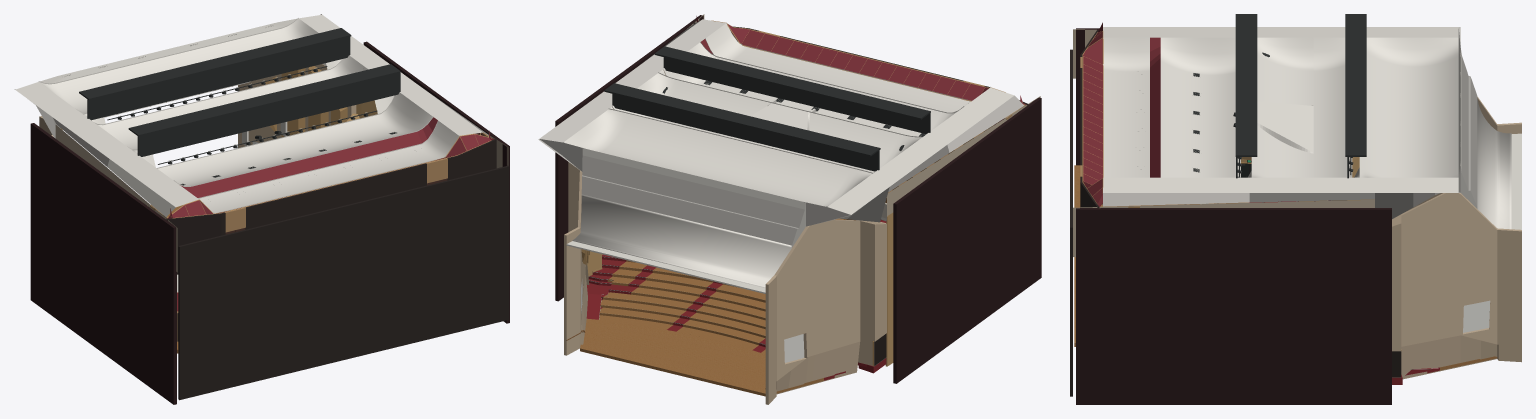
Rendered from hall.glb.
3 views of the same model, side by side, from view 1: azimuth 30°, elevation 25°; view 2: azimuth 150°, elevation 25°; view 3: azimuth 270°, elevation 25° (orthographic). The views are drawn at different scales.
Visible parts, largest first — view 1: bake_ceiling, bake_lowroom, bake_walls; view 2: bake_ceiling, bake_walls, bake_floor1, bake_carpet, bake_hall_detail, bake_trim, bake_scrim; view 3: bake_walls, bake_ceiling, bake_lowroom, bake_scrim, bake_floor1, bake_hall_detail.
Part boxes in pixels (x1,y1,x2,y2): bake_ceiling: (14, 14, 494, 218); bake_lowroom: (177, 165, 509, 400); bake_walls: (30, 41, 509, 404); bake_ceiling: (538, 16, 1026, 287); bake_walls: (555, 14, 1041, 404); bake_floor1: (580, 218, 855, 396); bake_carpet: (586, 219, 886, 380); bake_hall_detail: (582, 61, 925, 209); bake_trim: (588, 150, 954, 362); bake_scrim: (581, 279, 804, 362); bake_walls: (1073, 28, 1521, 404); bake_ceiling: (1082, 14, 1511, 229); bake_lowroom: (1070, 49, 1072, 396); bake_scrim: (1463, 300, 1490, 332); bake_floor1: (1074, 165, 1497, 370); bake_hall_detail: (1135, 48, 1461, 172).
Bounding box in the file's own units: 29.86 × 17.64 × 31.45.
Materials: 67 (7 with a texture image).
